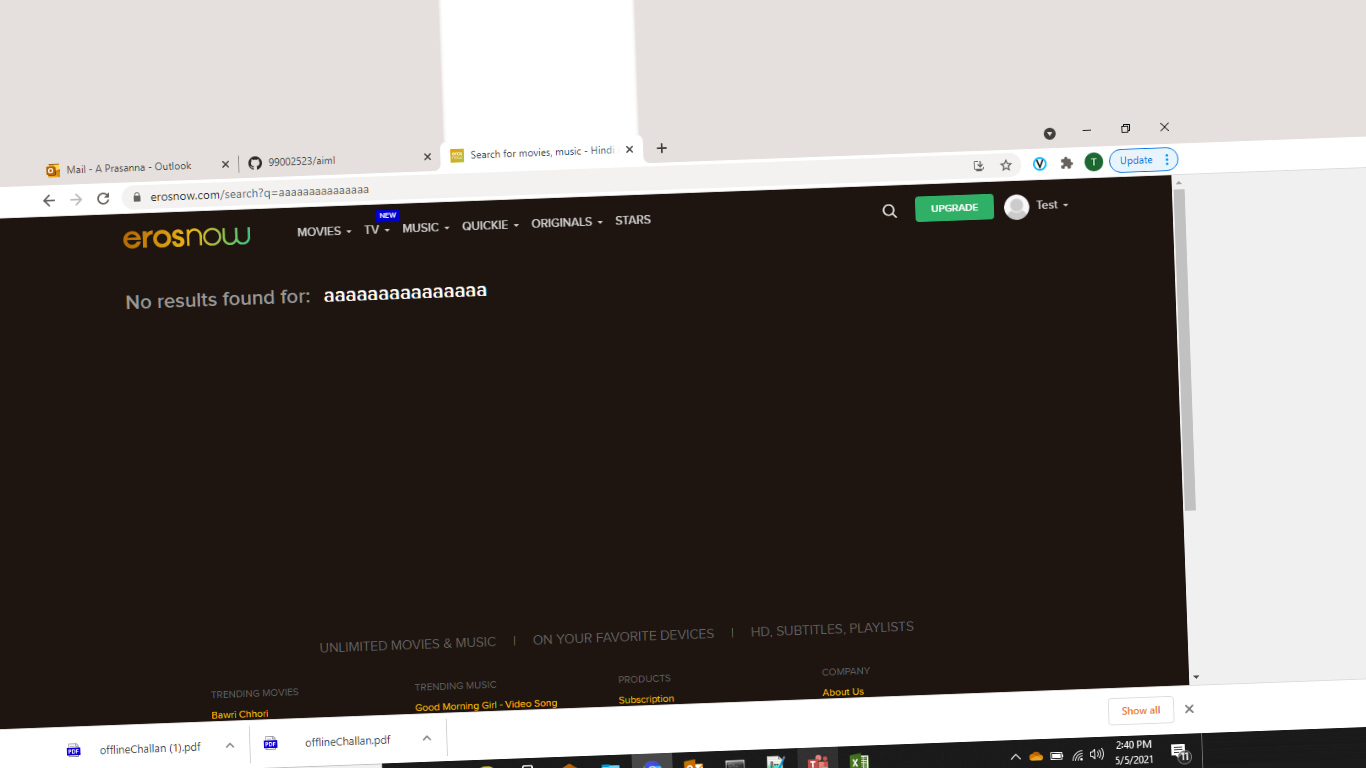noresultsfound: (104, 272, 490, 334)
profileicon: (1000, 186, 1078, 227)
searchicon: (868, 196, 903, 227)
